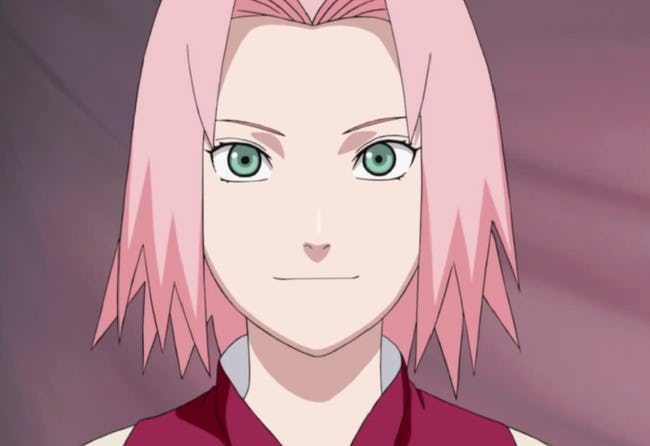sakura: (158, 5, 461, 361)
